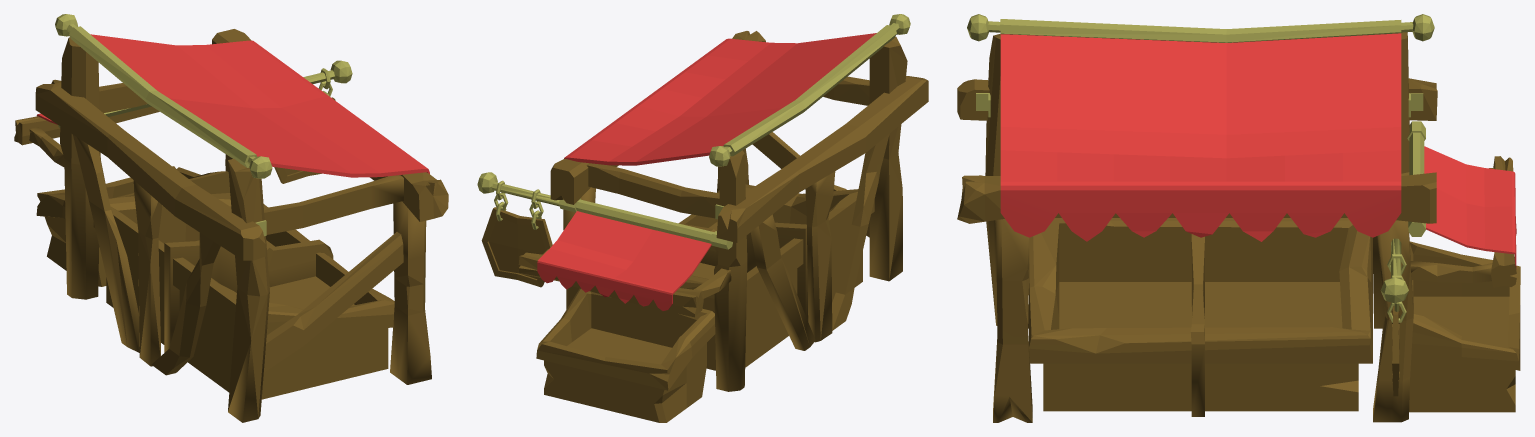
The model's file is market01.fbx.
The picture shows the model from 3 angles, left to right: view 1: azimuth 30°, elevation 25°; view 2: azimuth 150°, elevation 25°; view 3: azimuth 270°, elevation 25°; orthographic projection. The views are drawn at different scales.
Parts seen in each view (by area): view 1: _market01.001, _market01.021, _market01.024, _market01.005, _market01.002, _market01.018, _market01.012, _market01.008, _market01.017, _market01.007, _market01.006, _market01.022 (+5 smaller); view 2: _market01.001, _market01.022, _market01.023, _market01.021, _market01.024, _market01.005, _market01.002, _market01.013, _market01.007, _market01.016, _market01.008, _market01.006 (+6 smaller); view 3: _market01.001, _market01.021, _market01.022, _market01.023, _market01.018, _market01.020, _market01.019, _market01.005, _market01.024, _market01.002, _market01.013, _market01.027 (+1 smaller).
Boxes of the visible parts, box(x1,y1,x2,y2) form: _market01.001: box(55, 14, 429, 178); _market01.021: box(93, 193, 394, 399); _market01.024: box(35, 79, 266, 260); _market01.005: box(228, 158, 269, 422); _market01.002: box(60, 37, 100, 299); _market01.018: box(390, 201, 431, 384); _market01.012: box(264, 232, 403, 372); _market01.008: box(73, 135, 139, 352); _market01.017: box(264, 175, 403, 234); _market01.007: box(133, 180, 162, 366); _market01.006: box(151, 232, 220, 375); _market01.022: box(36, 166, 229, 286); _market01.001: box(564, 14, 910, 166); _market01.022: box(536, 288, 715, 422); _market01.023: box(537, 198, 732, 310); _market01.021: box(678, 184, 874, 370); _market01.024: box(715, 76, 928, 242); _market01.005: box(869, 36, 907, 281); _market01.002: box(714, 150, 747, 391); _market01.013: box(477, 172, 559, 287); _market01.007: box(805, 171, 835, 342); _market01.016: box(586, 163, 719, 218); _market01.008: box(750, 214, 815, 350); _market01.006: box(832, 134, 889, 330); _market01.001: box(967, 14, 1434, 241); _market01.021: box(1029, 218, 1372, 416); _market01.022: box(1409, 241, 1520, 412); _market01.023: box(1407, 121, 1516, 269); _market01.018: box(993, 219, 1032, 422); _market01.020: box(1373, 220, 1413, 422); _market01.019: box(957, 172, 1436, 223); _market01.005: box(985, 33, 1028, 328); _market01.024: box(957, 78, 1437, 120); _market01.002: box(1373, 32, 1409, 328); _market01.013: box(1380, 238, 1408, 396); _market01.027: box(1410, 261, 1492, 282).
Size of the model in its own units: 4.8 by 4.25 by 6.91.
